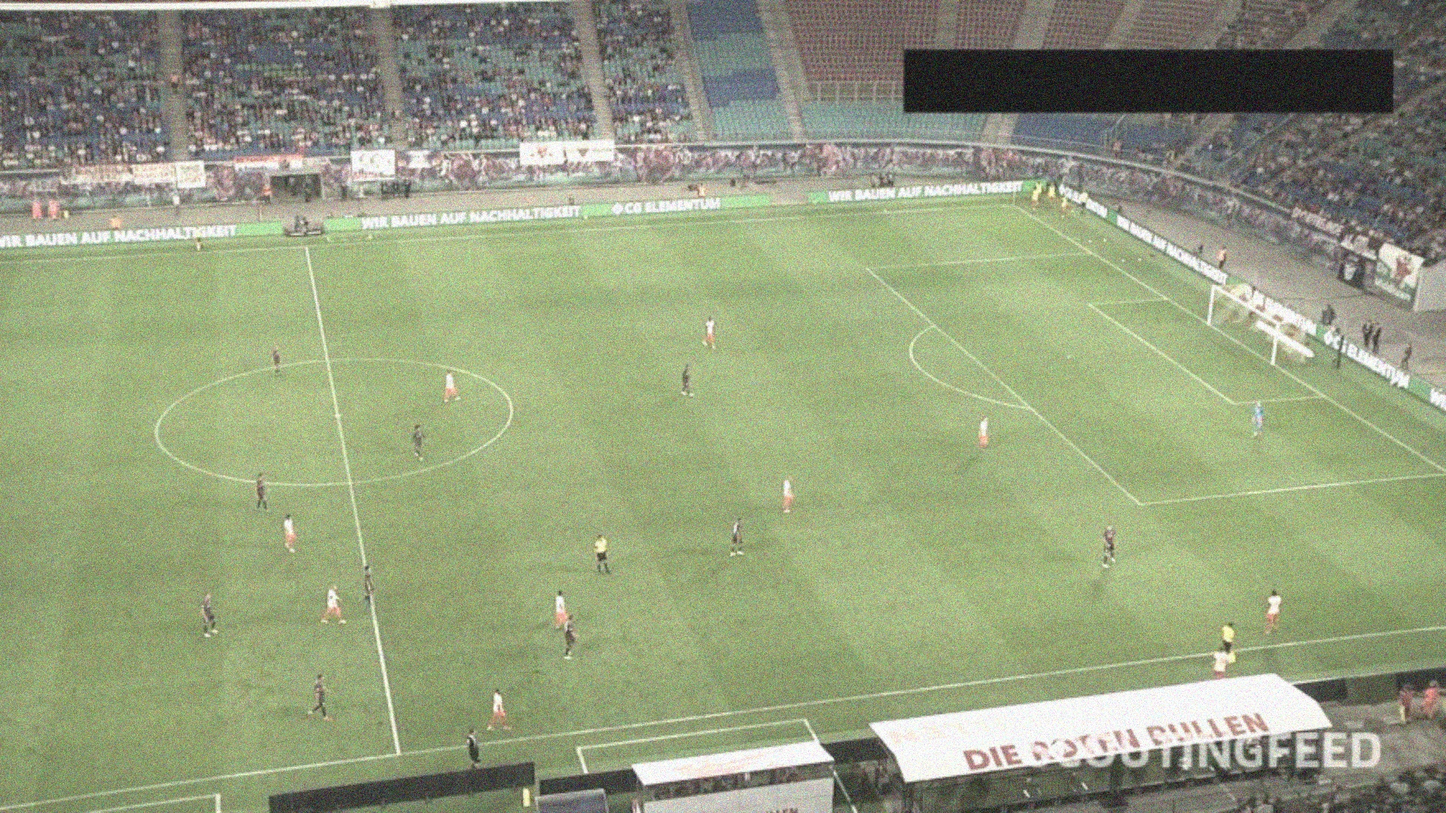goalkeeper: (1249, 400, 1268, 442)
player: (306, 673, 335, 722), (486, 685, 512, 735), (1099, 521, 1121, 570), (322, 582, 346, 626), (1263, 587, 1283, 638), (199, 590, 218, 640), (561, 614, 580, 663), (728, 514, 747, 558), (410, 423, 429, 462), (360, 564, 376, 610), (442, 368, 462, 404), (253, 471, 270, 513), (780, 473, 796, 516), (553, 589, 569, 632), (1211, 646, 1228, 684), (282, 513, 297, 555), (977, 415, 993, 454), (701, 315, 718, 350), (679, 362, 694, 399), (271, 342, 284, 379)
referee: (593, 533, 614, 578), (1220, 618, 1237, 667), (191, 224, 204, 253)
